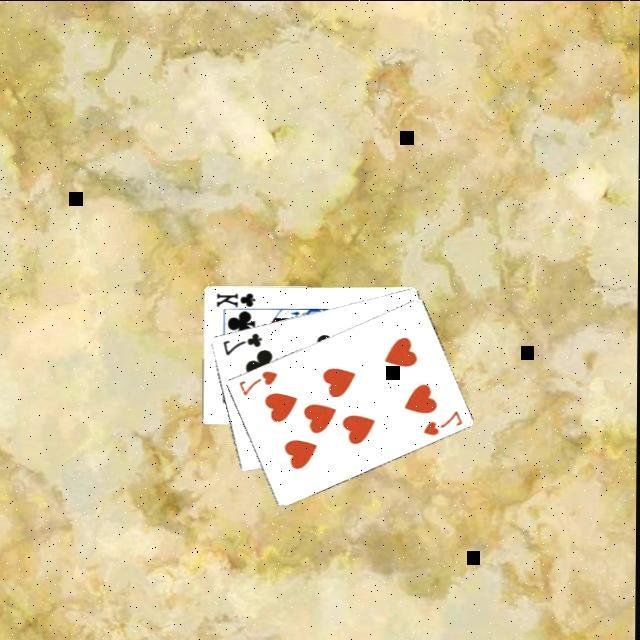7C: (221, 331, 267, 360)
7H: (238, 368, 283, 400), (421, 408, 467, 439)
KC: (216, 290, 264, 314)
